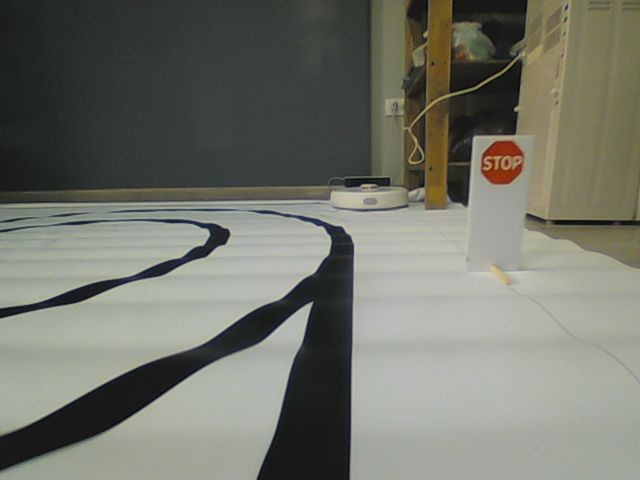Stop: (479, 139, 524, 184)
